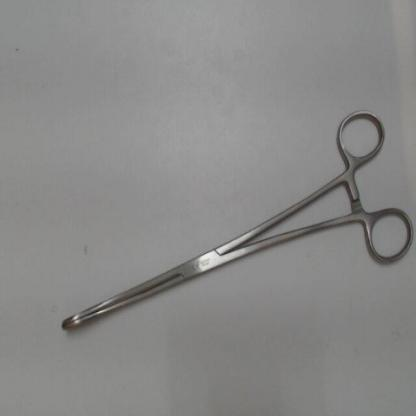Sponge Forceps: (55, 104, 414, 345)
